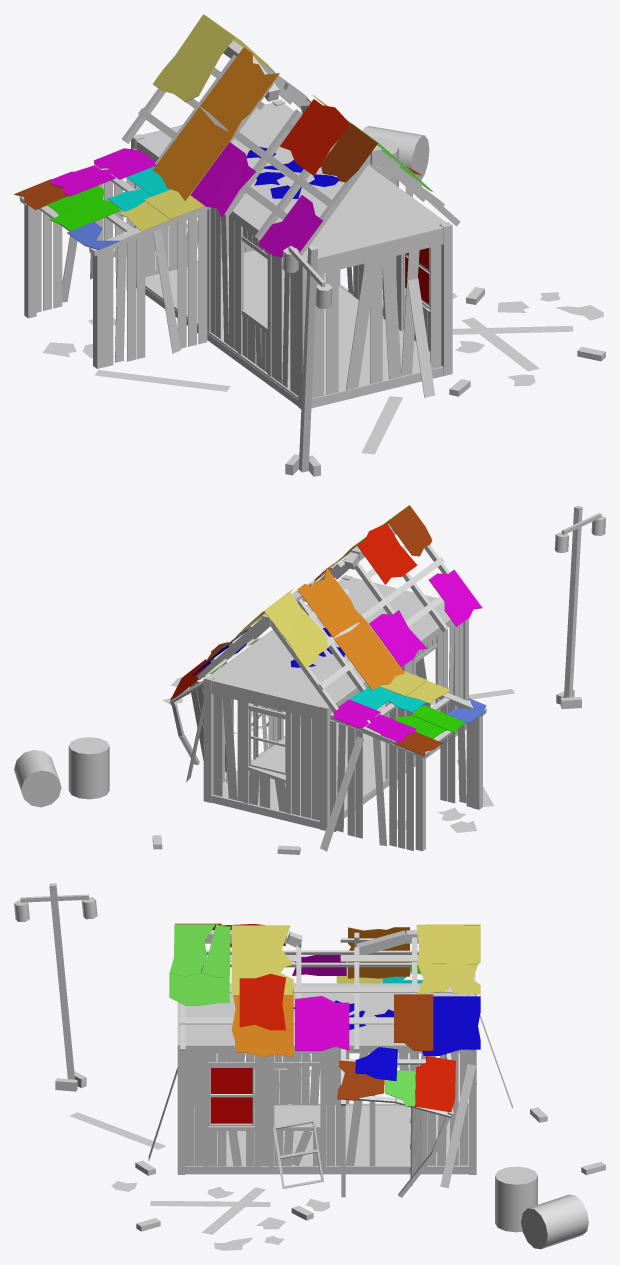
File: SM_Shack_Ready.fbx
3 renders of one model, top to bottom at view 1: azimuth 30°, elevation 25°; view 2: azimuth 150°, elevation 25°; view 3: azimuth 270°, elevation 25°, orthographic. The views are drawn at different scales.
Parts seen in each view (by area): view 1: Shack, Shack_Envir.001, Shack_Envir.018, Shack_Envir.003, Shack_Envir.002, Shack_Envir.020, Shack_Envir.019; view 2: Shack, Shack_Envir.001, Shack_Envir.017, Shack_Envir.018; view 3: Shack, Shack_Envir.001, Shack_Envir.018, Shack_Envir.017, Shack_Envir.002, Shack_Envir.020, Shack_Envir.019.
Part boxes in pixels (bbox=[...]): Shack: bbox=[14, 14, 460, 408]; Shack_Envir.001: bbox=[282, 245, 332, 476]; Shack_Envir.018: bbox=[362, 126, 429, 180]; Shack_Envir.003: bbox=[95, 370, 230, 391]; Shack_Envir.002: bbox=[361, 396, 402, 454]; Shack_Envir.020: bbox=[452, 326, 573, 334]; Shack_Envir.019: bbox=[462, 317, 539, 371]; Shack: bbox=[169, 505, 486, 851]; Shack_Envir.001: bbox=[554, 505, 605, 709]; Shack_Envir.017: bbox=[68, 737, 109, 799]; Shack_Envir.018: bbox=[14, 749, 61, 807]; Shack: bbox=[148, 923, 512, 1197]; Shack_Envir.001: bbox=[14, 883, 97, 1091]; Shack_Envir.018: bbox=[521, 1194, 588, 1249]; Shack_Envir.017: bbox=[495, 1166, 537, 1232]; Shack_Envir.002: bbox=[70, 1112, 165, 1149]; Shack_Envir.020: bbox=[202, 1187, 265, 1234]; Shack_Envir.019: bbox=[150, 1201, 270, 1206].
Bounding box in the file's own units: 2101 × 1088 × 2606.
